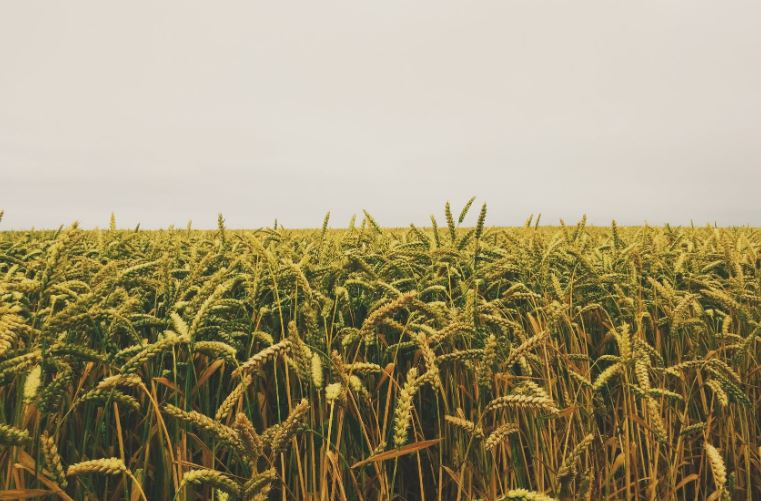Wheat: (48, 229, 738, 478)
